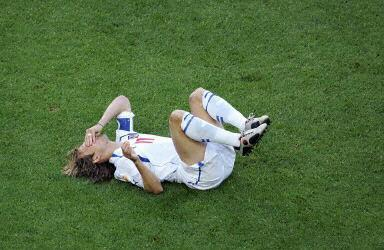fall: (60, 82, 269, 198)
